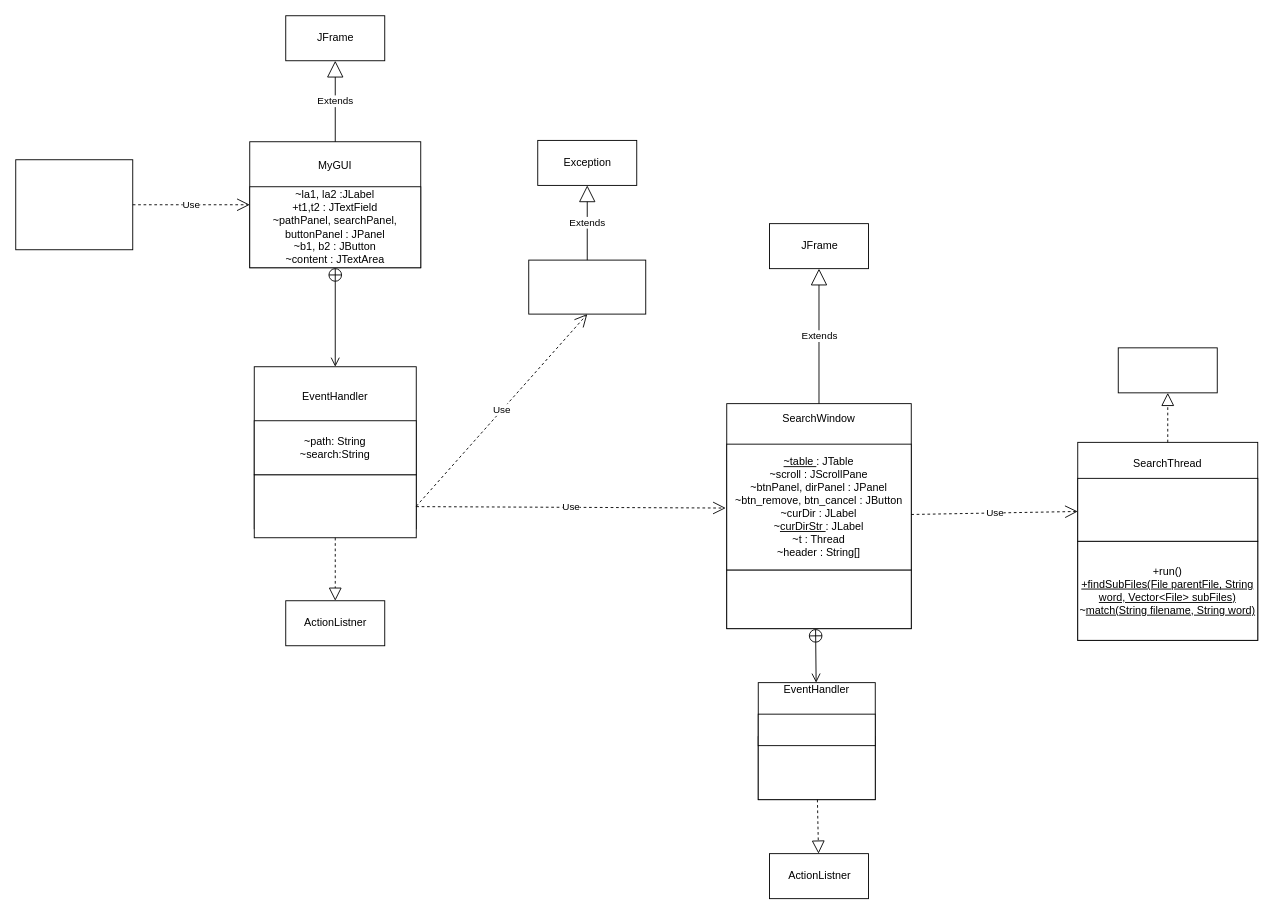
Some shapes in this 1274 by 914 pixel diagram are drawn without their labels. The centre of each missing label's shape, as x and y in pixels:
+actionPerformed (ActionEvent e): the point at 816,768
+changelabel(String str) +ThreadResult(File f) +deleteFile(): the point at 818,599
findException(int flag, String str) actionPerformed(ActionEvent e): the point at 334,506
Main: the point at 74,204
MyException: the point at 587,286
Runnable: the point at 1167,370
~path , word : String ~dir : File ~subFiles : Vector<File> ~ b : Boolean: the point at 1167,509
